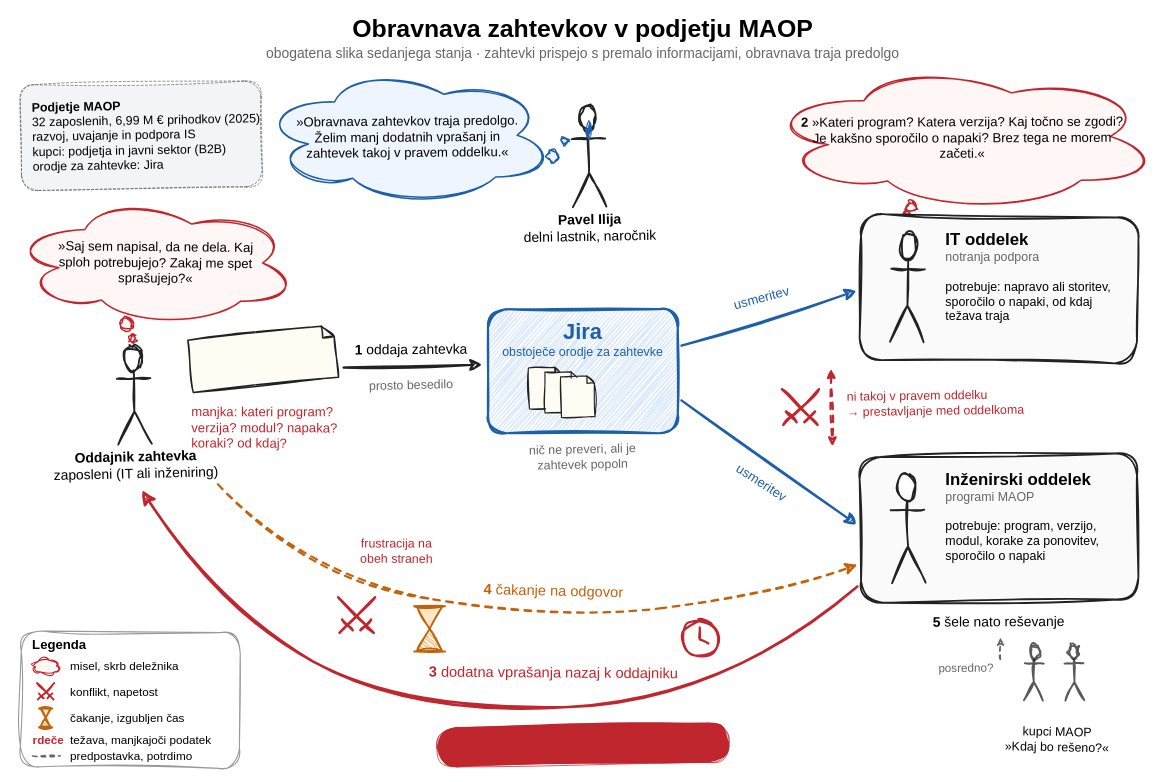
Some shapes in this 1174 by 782 pixel diagram are drawn without their labels. Each missing label, with the centre of its shape:
"koraki 2–4 = izgubljen čas" goes at (x=582, y=744).
"»Program mi ne dela.«" goes at (x=263, y=358).
